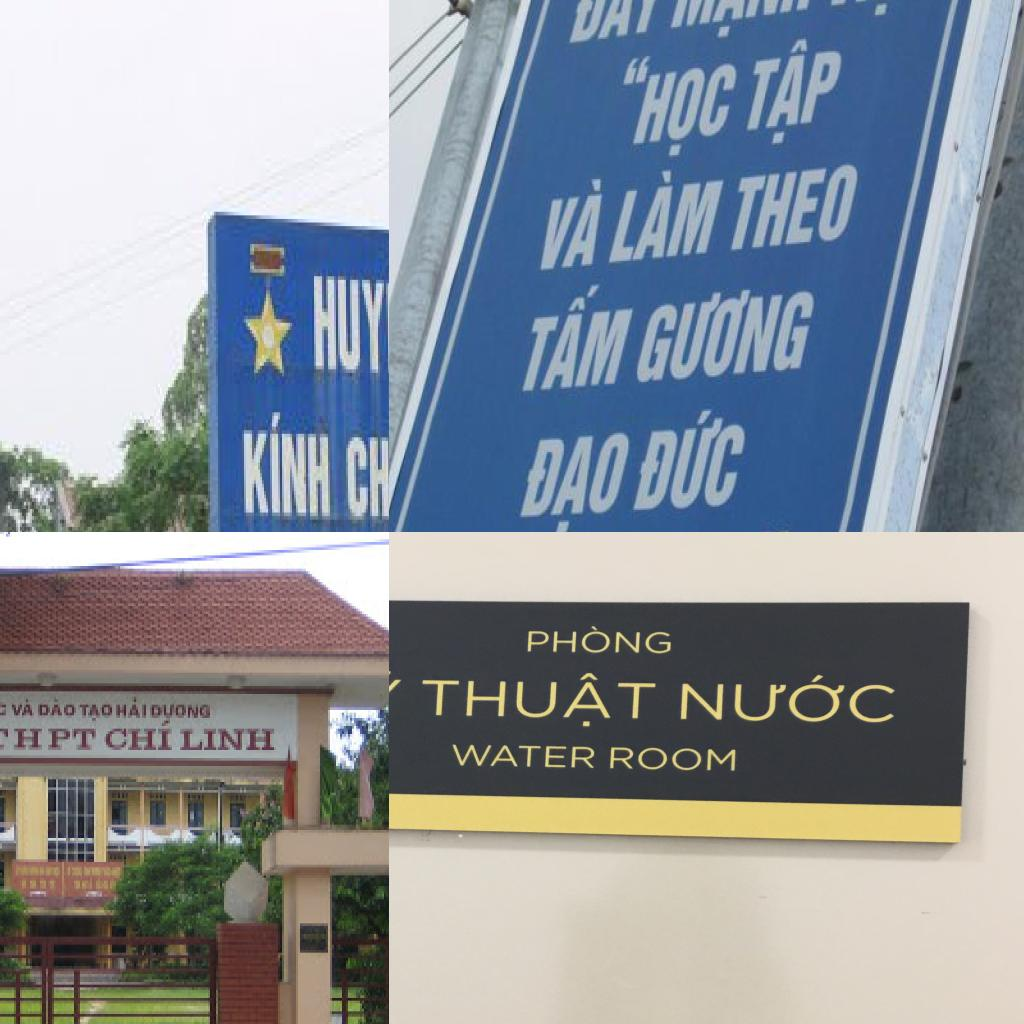text: (631, 282, 821, 388), (622, 407, 758, 532), (604, 47, 742, 162), (512, 280, 644, 394), (505, 426, 640, 532), (548, 691, 626, 871), (722, 160, 864, 254), (602, 167, 732, 269), (737, 36, 849, 150), (308, 254, 389, 401), (240, 412, 334, 524), (551, 532, 620, 675), (530, 174, 616, 274), (662, 0, 829, 44), (561, 0, 680, 45), (544, 876, 610, 952), (344, 419, 389, 530), (486, 680, 528, 791), (645, 737, 680, 847), (178, 724, 280, 756), (0, 723, 100, 755), (821, 0, 955, 23), (102, 721, 178, 755), (150, 700, 214, 724), (38, 696, 78, 720), (78, 700, 116, 724), (116, 697, 150, 723), (12, 696, 36, 720), (0, 699, 10, 723)
